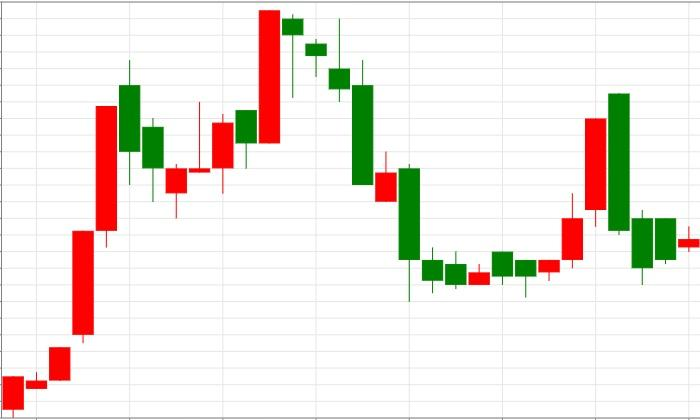hanging_man_fall: (166, 10, 303, 218)
